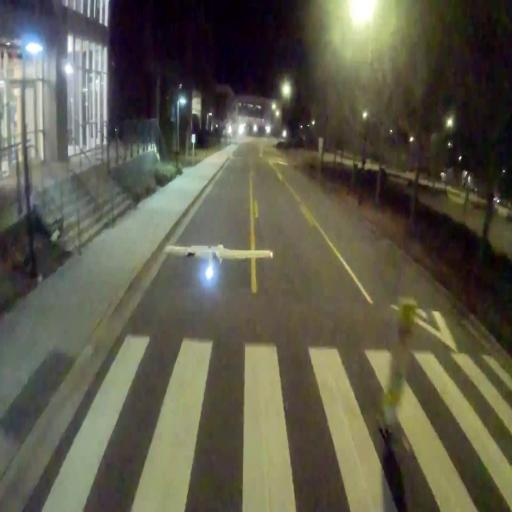uav: (160, 236, 274, 284)
